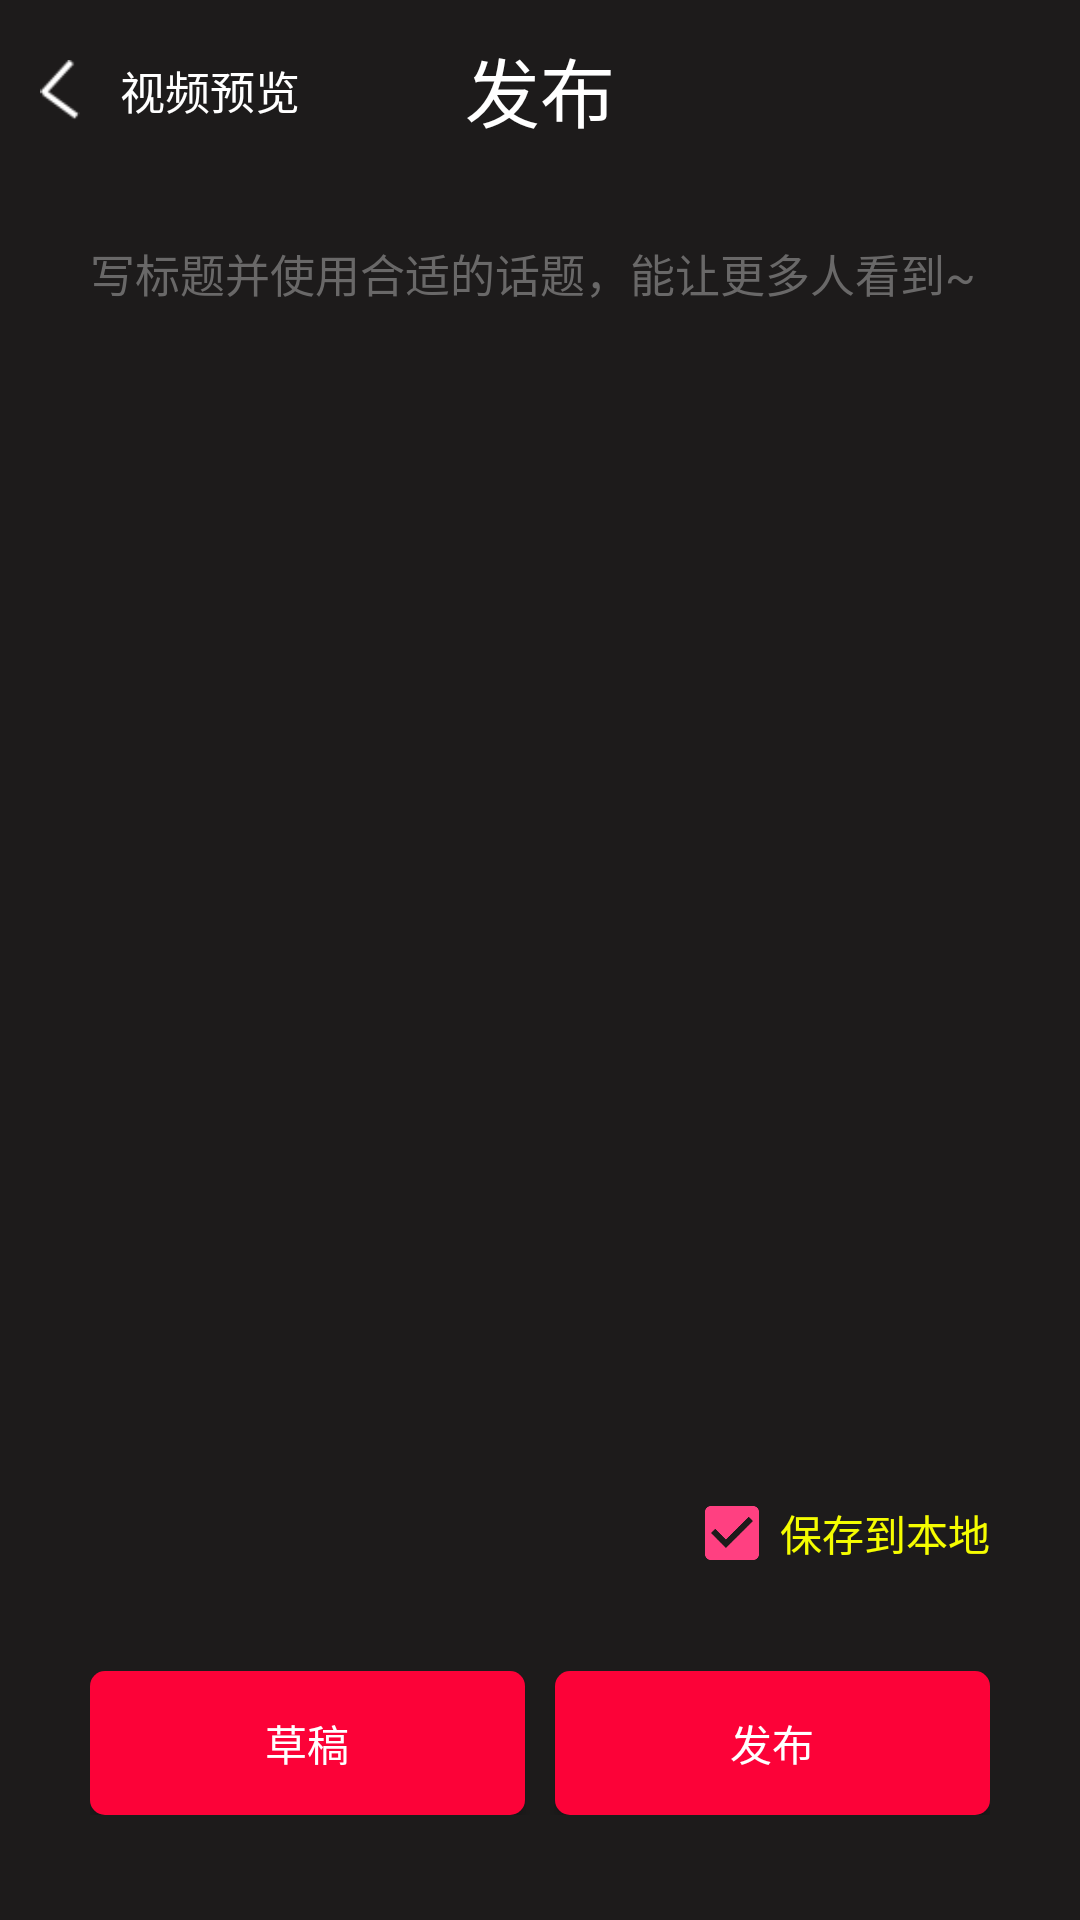

Where icons sit on this 1080x1920 app screen, as (x1=x1, y1=y1, x2=x2, y2=y2):
perview back: (x1=40, y1=60, x2=79, y2=119)
